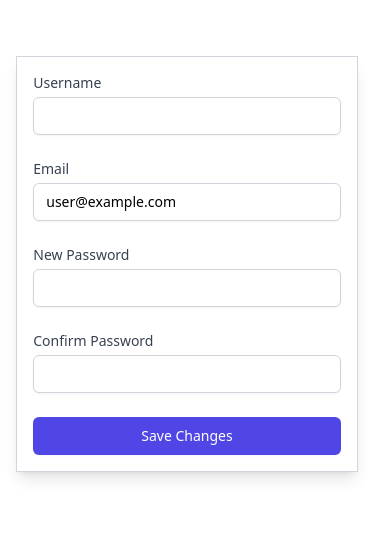
Test: ProfilePage Component › allows submission with valid data
// Assume we are using async operations
In the field labelled "Username": (187, 116) [33,97,341,135], type "john_doe"
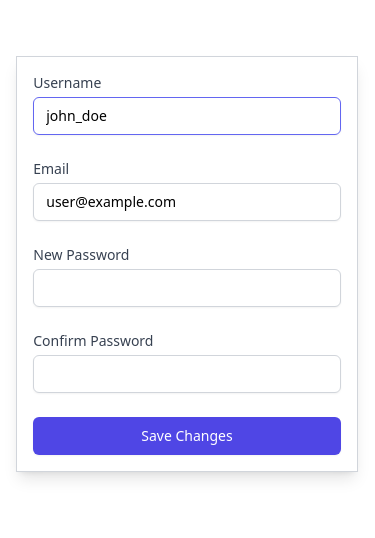
Replace the text in the field labelled "Email" with "john@example.com": (187, 202) [33,183,341,221]
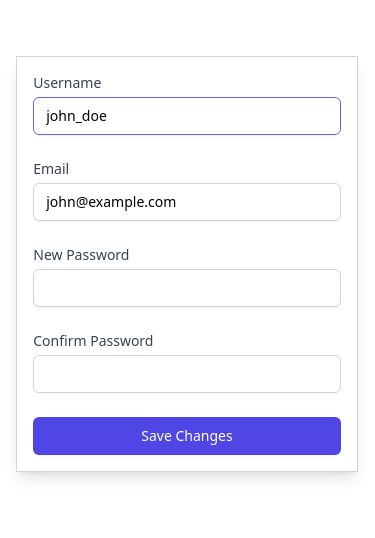
Click the button "Save Changes": (187, 436) [33,417,341,455]
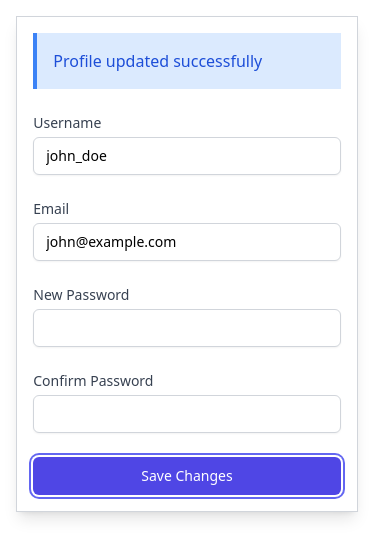
Expected: the text "Profile updated successfully" is shown, [33,33,341,89]
